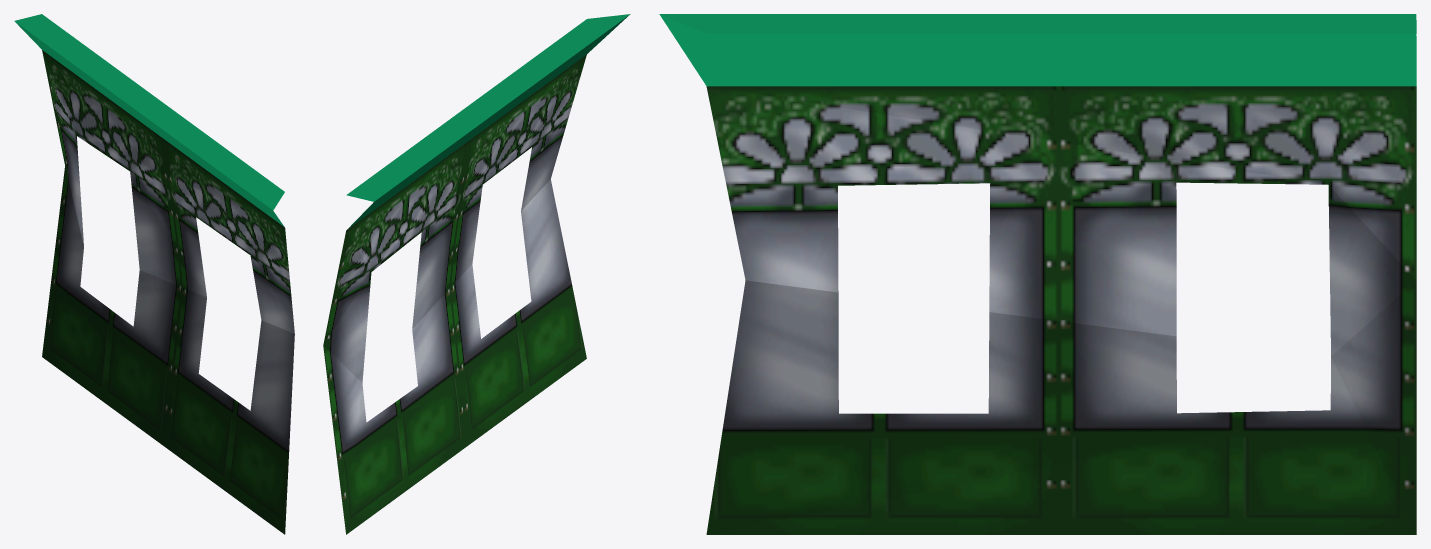
The model's file is W_A2l_ff [GrünesMetall]_299.glb.
3 views of the same model, side by side, from view 1: azimuth 30°, elevation 25°; view 2: azimuth 150°, elevation 25°; view 3: azimuth 270°, elevation 25° (orthographic). The views are drawn at different scales.
Visible parts, largest first — view 1: polySurfaceShape1183, polySurfaceShape1185; view 2: polySurfaceShape1183, polySurfaceShape1185; view 3: polySurfaceShape1183, polySurfaceShape1185.
Boxes of the visible parts, box(x1,y1,x2,y2) form: polySurfaceShape1183: box(42, 50, 294, 534); polySurfaceShape1185: box(14, 14, 284, 227); polySurfaceShape1183: box(323, 54, 586, 534); polySurfaceShape1185: box(346, 14, 630, 229); polySurfaceShape1183: box(706, 86, 1416, 534); polySurfaceShape1185: box(659, 14, 1416, 86).
Size of the model in its own units: 0.0607 by 0.3891 by 0.5333.
Materials: 2 (1 with a texture image).
